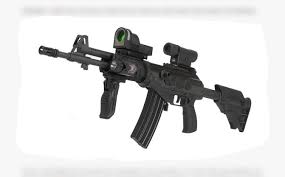Arma Real: (38, 27, 254, 147)
